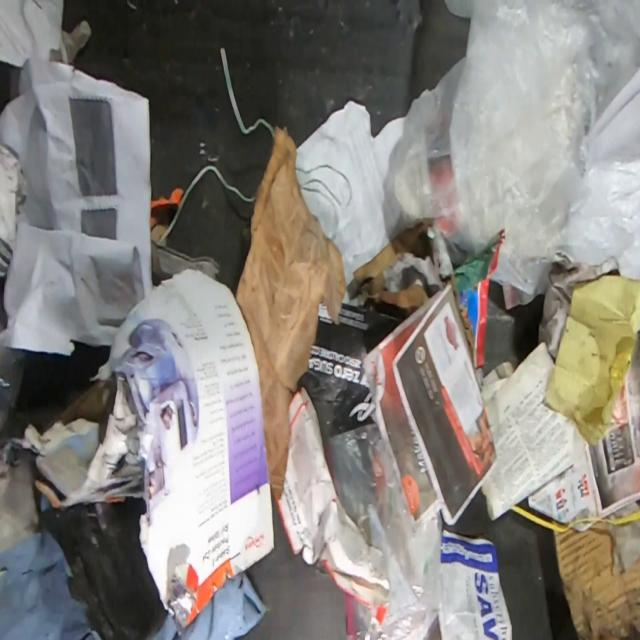cardboard: (237, 127, 347, 502), (552, 518, 638, 639)
soft_plastic: (392, 1, 640, 296), (0, 497, 268, 639), (325, 422, 443, 639)
